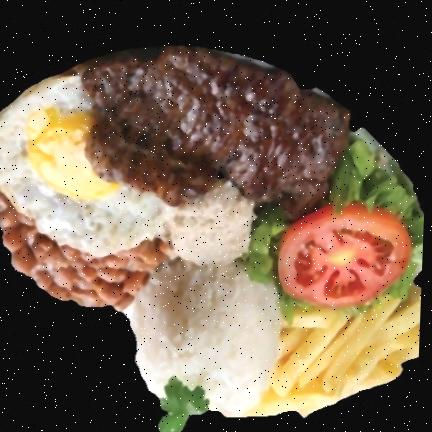beans: (0, 186, 171, 310)
egg: (0, 72, 173, 256)
meat: (82, 46, 349, 218)
potato: (245, 285, 420, 415)
rice: (132, 259, 282, 415), (167, 180, 255, 264)
salad: (330, 129, 423, 314)
tomato: (278, 202, 412, 307)
